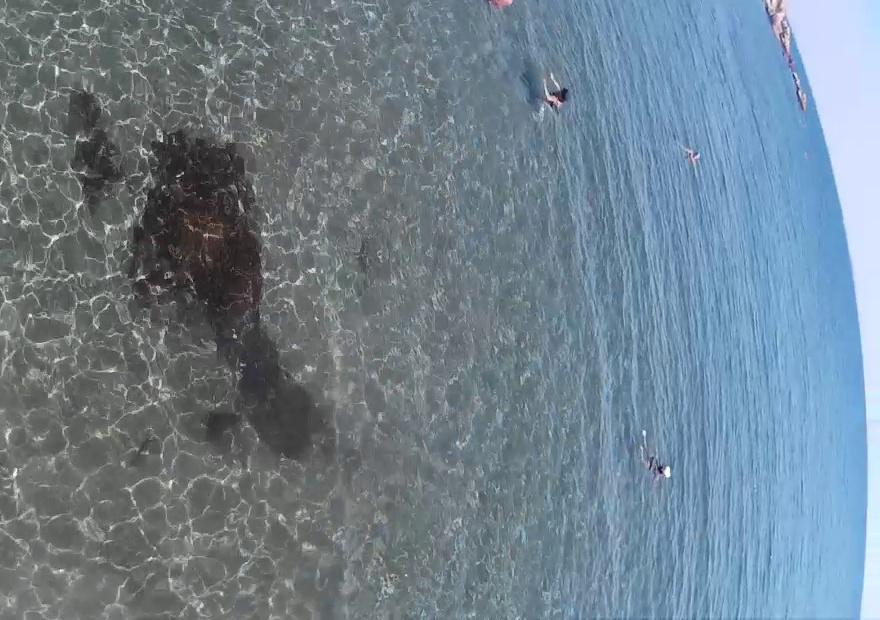human: (634, 423, 673, 493), (538, 60, 566, 118), (680, 145, 706, 168), (480, 0, 514, 17)
